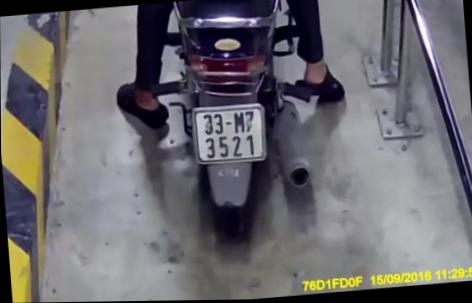LP: (191, 103, 266, 166)
